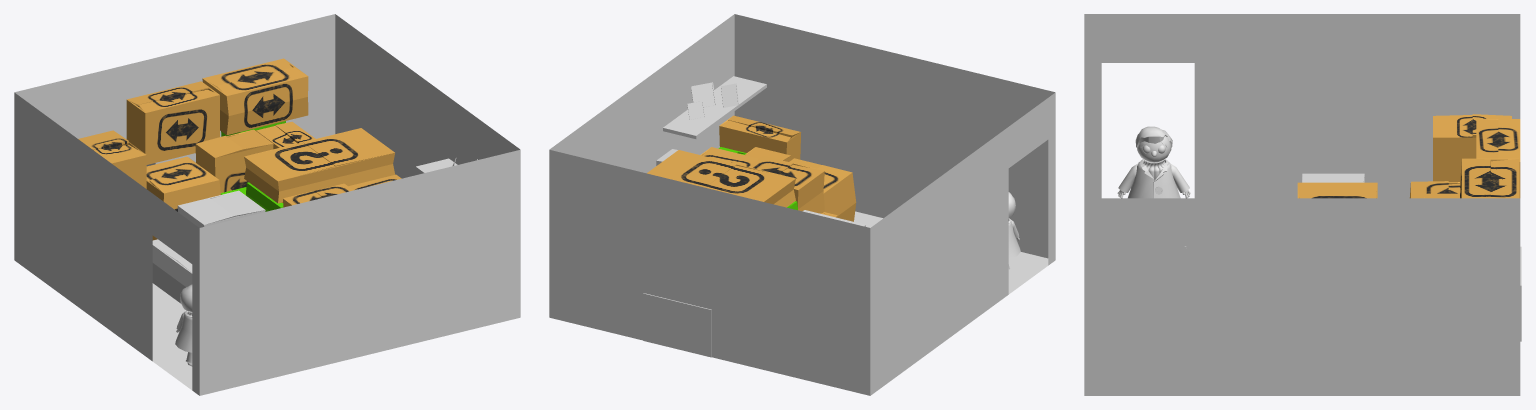
File: 1st room.fbx
3 renders of one model, left to right at view 1: azimuth 30°, elevation 25°; view 2: azimuth 150°, elevation 25°; view 3: azimuth 270°, elevation 25°, orthographic. The views are drawn at different scales.
Visible parts, largest first — view 1: Cube, Cube.029, Cube.031, Cube.023, Cube.018, Cube.019, Cube.025, Cube.032, Cube.024, Cube.014, Cube.010, Sphere.003 (+1 smaller); view 2: Cube, Cube.029, Cube.016, Cube.002, Cube.004, Cube.010, Cube.005, Cube.028, Plane.003; view 3: Cube, Cube.032, Cube.023, Cube.031, Sphere.003, Cube.029, Cube.004, Cube.019, Cube.025, Sphere, Sphere.006.
Boxes of the visible parts, bbox=[...] form: Cube: bbox=[14, 14, 520, 395]; Cube.029: bbox=[244, 128, 394, 203]; Cube.031: bbox=[126, 81, 219, 164]; Cube.023: bbox=[202, 58, 308, 135]; Cube.018: bbox=[195, 129, 273, 192]; Cube.019: bbox=[146, 156, 220, 240]; Cube.025: bbox=[177, 190, 265, 227]; Cube.032: bbox=[78, 130, 146, 188]; Cube.024: bbox=[152, 239, 192, 303]; Cube.014: bbox=[256, 121, 315, 149]; Cube.010: bbox=[283, 183, 353, 207]; Sphere.003: bbox=[175, 310, 192, 352]; Cube: bbox=[549, 14, 1055, 395]; Cube.029: bbox=[647, 150, 795, 207]; Cube.016: bbox=[643, 293, 711, 357]; Cube.002: bbox=[719, 115, 801, 160]; Cube.004: bbox=[663, 76, 766, 138]; Cube.010: bbox=[748, 156, 824, 213]; Cube.005: bbox=[789, 158, 856, 221]; Cube.028: bbox=[700, 147, 758, 166]; Plane.003: bbox=[691, 82, 716, 108]; Cube: bbox=[1084, 14, 1520, 395]; Cube.032: bbox=[1433, 114, 1511, 181]; Cube.023: bbox=[1460, 158, 1519, 198]; Cube.031: bbox=[1476, 119, 1520, 197]; Sphere.003: bbox=[1118, 159, 1189, 198]; Cube.029: bbox=[1297, 182, 1377, 198]; Cube.004: bbox=[1087, 270, 1252, 274]; Cube.019: bbox=[1409, 181, 1459, 198]; Cube.025: bbox=[1302, 173, 1364, 182]; Sphere: bbox=[1137, 136, 1171, 162]; Sphere.006: bbox=[1135, 126, 1172, 147].
Bounding box in the file's own units: 401 × 201 × 401.
